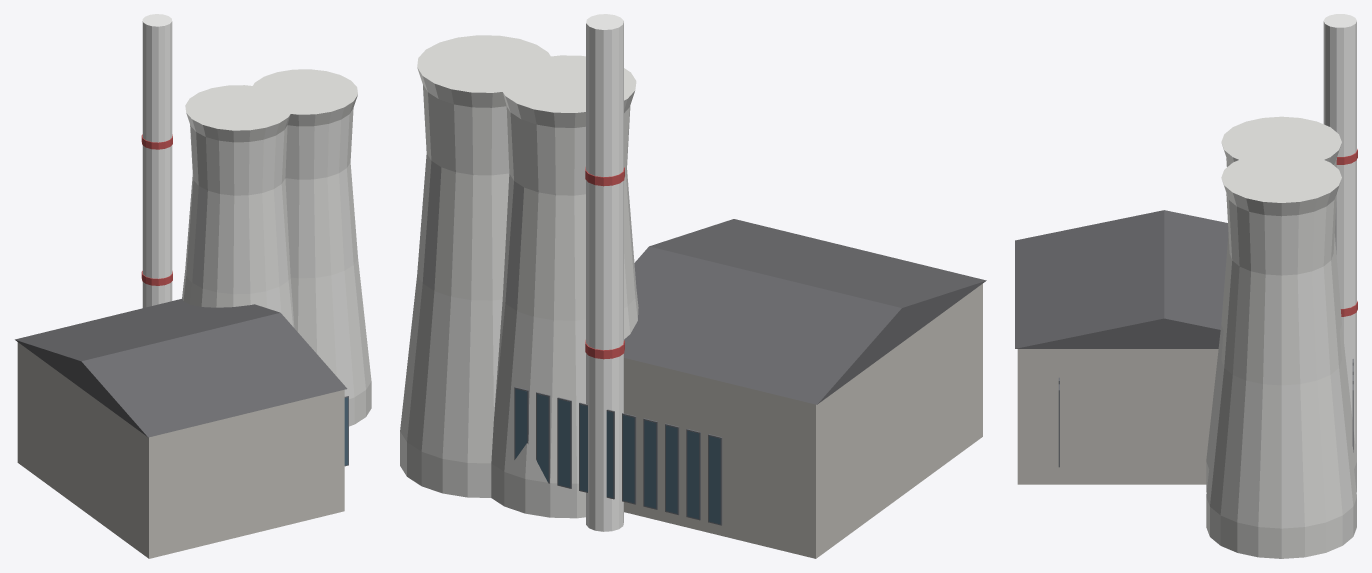
Rendered from power_plant.glb.
The picture shows the model from 3 angles, left to right: view 1: azimuth 30°, elevation 25°; view 2: azimuth 150°, elevation 25°; view 3: azimuth 270°, elevation 25°; orthographic projection. The views are drawn at different scales.
Parts seen in each view (by area): view 1: m.001, Cube, m, Cylinder, Cylinder.001; view 2: m.001, Cube, m, Cylinder, Cube.002, Cube.001, Cylinder.001; view 3: m.001, m, Cube, Cylinder.
Boxes of the visible parts, x1,y1,x2,y2 form: m.001: (182,69,371,426); Cube: (17,342,344,558); m: (15,298,347,437); Cylinder: (142,14,172,307); Cylinder.001: (141,134,172,285); m.001: (400,35,638,518); Cube: (624,283,982,558); m: (624,219,986,404); Cylinder: (586,14,623,531); Cube.002: (515,388,720,524); Cube.001: (514,387,722,525); Cylinder.001: (585,167,624,359); m.001: (1206,116,1356,558); m: (1015,210,1228,348); Cube: (1017,349,1218,484); Cylinder: (1323,14,1356,458).
Bounding box in the file's own units: 51.3 × 58 × 40.9.
